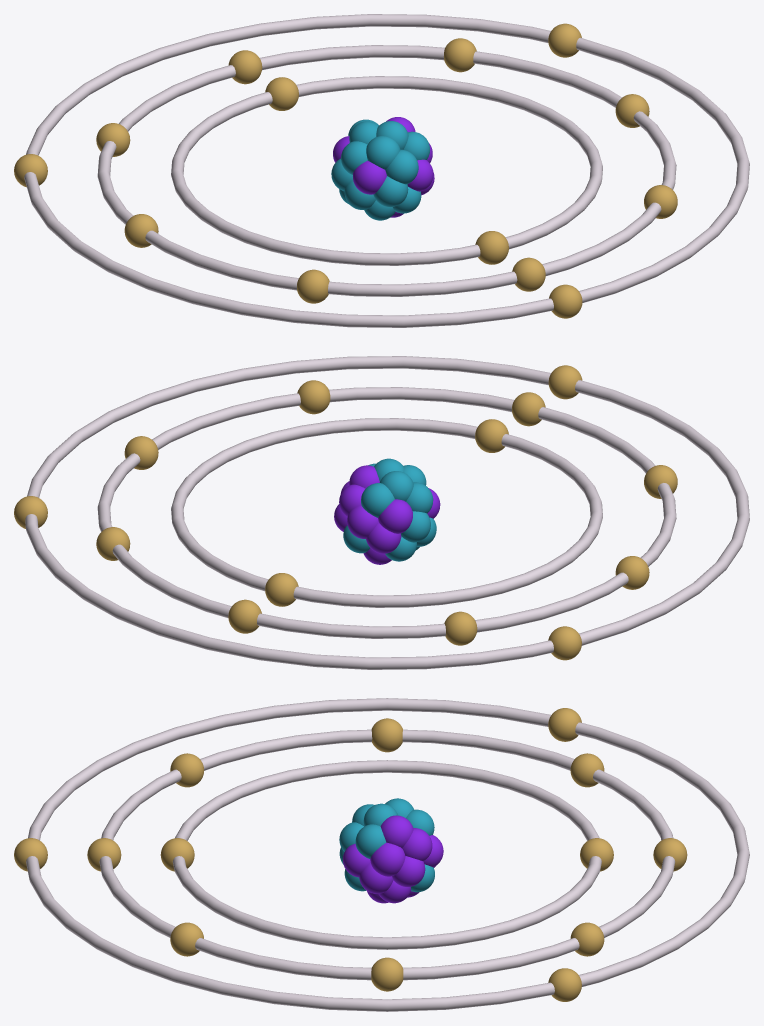
The model's file is aluminio.glb.
3 views of the same model, one above another, from view 1: azimuth 30°, elevation 25°; view 2: azimuth 150°, elevation 25°; view 3: azimuth 270°, elevation 25° (orthographic).
Visible parts, largest first — view 1: Orbita_3, Orbita_2, Orbita_1, Nucleo_Completo, Eletron_C2_8, Eletron_C2_4, Eletron_C3_1, Eletron_C2_1, Eletron_1, Eletron_C3_2, Eletron_C2_5, Eletron_2 (+5 smaller); view 2: Orbita_3, Orbita_2, Orbita_1, Nucleo_Completo, Eletron_C2_6, Eletron_C2_2, Eletron_C2_5, Eletron_2, Eletron_C3_3, Eletron_C3_1, Eletron_C2_1, Eletron_1 (+5 smaller); view 3: Orbita_3, Orbita_2, Orbita_1, Nucleo_Completo, Eletron_C2_3, Eletron_C2_7, Eletron_C3_3, Eletron_C3_2, Eletron_C2_4, Eletron_C2_2, Eletron_C2_6, Eletron_C2_8 (+5 smaller).
Part boxes in pixels (bbox=[...]): Orbita_3: bbox=[24, 14, 749, 327]; Orbita_2: bbox=[97, 45, 676, 296]; Orbita_1: bbox=[171, 76, 602, 265]; Nucleo_Completo: bbox=[331, 117, 434, 220]; Eletron_C2_8: bbox=[297, 269, 329, 303]; Eletron_C2_4: bbox=[443, 38, 476, 72]; Eletron_C3_1: bbox=[549, 284, 582, 318]; Eletron_C2_1: bbox=[512, 257, 545, 291]; Eletron_1: bbox=[475, 231, 508, 264]; Eletron_C3_2: bbox=[548, 23, 581, 57]; Eletron_C2_5: bbox=[228, 50, 262, 84]; Eletron_2: bbox=[265, 77, 298, 110]; Orbita_3: bbox=[25, 356, 749, 669]; Orbita_2: bbox=[97, 387, 676, 638]; Orbita_1: bbox=[171, 418, 602, 607]; Nucleo_Completo: bbox=[334, 458, 440, 564]; Eletron_C2_6: bbox=[444, 611, 477, 645]; Eletron_C2_2: bbox=[297, 380, 330, 414]; Eletron_C2_5: bbox=[228, 599, 261, 633]; Eletron_2: bbox=[265, 573, 298, 606]; Eletron_C3_3: bbox=[548, 626, 581, 660]; Eletron_C3_1: bbox=[548, 365, 582, 399]; Eletron_C2_1: bbox=[512, 392, 545, 426]; Eletron_1: bbox=[475, 419, 508, 452]; Orbita_3: bbox=[26, 698, 749, 1011]; Orbita_2: bbox=[99, 729, 675, 980]; Orbita_1: bbox=[172, 760, 601, 949]; Nucleo_Completo: bbox=[339, 798, 443, 903]; Eletron_C2_3: bbox=[371, 957, 403, 991]; Eletron_C2_7: bbox=[371, 718, 402, 752]; Eletron_C3_3: bbox=[548, 708, 581, 741]; Eletron_C3_2: bbox=[548, 968, 581, 1001]; Eletron_C2_4: bbox=[570, 922, 604, 956]; Eletron_C2_2: bbox=[170, 922, 203, 956]; Eletron_C2_6: bbox=[570, 753, 604, 787]; Eletron_C2_8: bbox=[170, 753, 204, 787].
Bounding box in the file's own units: 3.46 × 0.4994 × 3.51.
